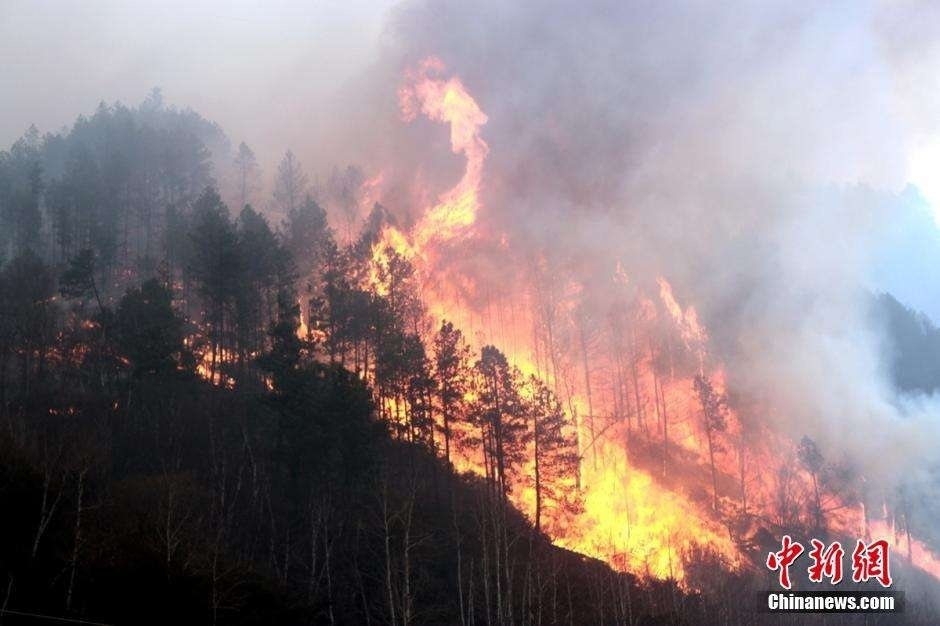fire: (242, 67, 924, 598)
